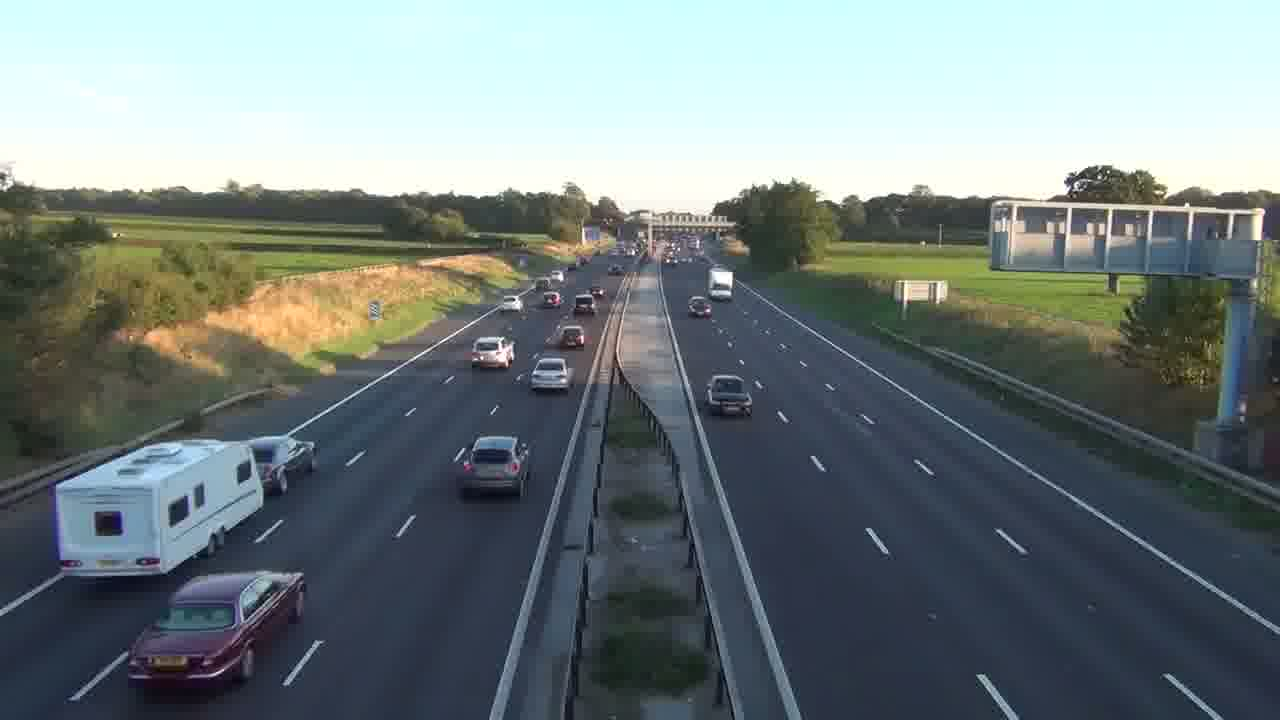car: (456, 434, 532, 499), (705, 373, 753, 417), (529, 356, 571, 393), (557, 324, 585, 348), (688, 295, 713, 318)
truck: (127, 569, 308, 698), (248, 435, 318, 496), (470, 335, 515, 370), (707, 268, 735, 301)
